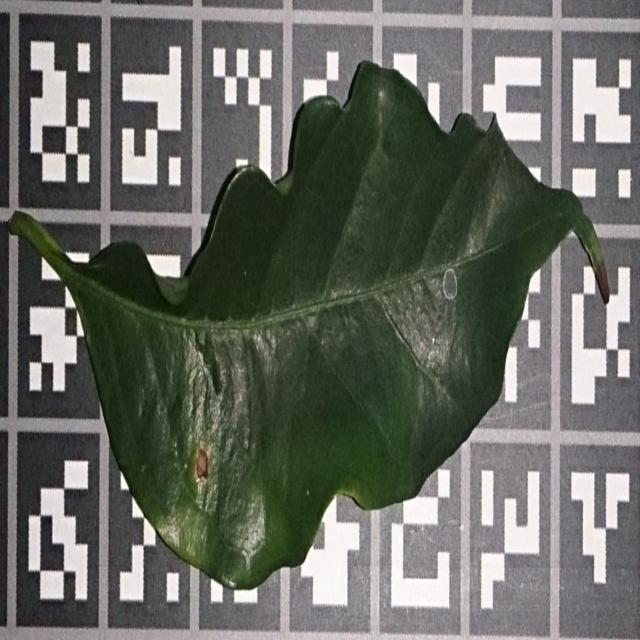Enfermedad-Mancha-de-hierro: (7, 60, 613, 594)
